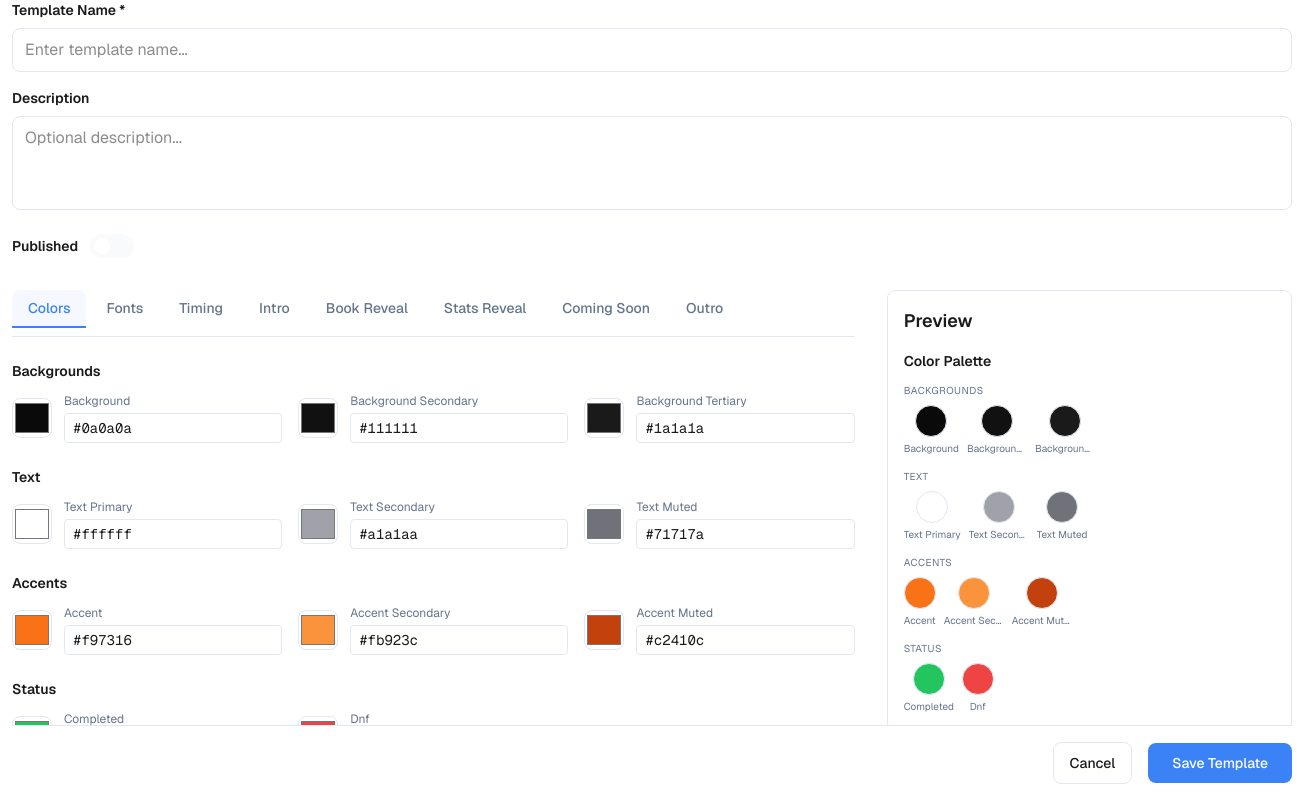
Test: Template Creator - Gap Fill Tests › changing a timing total in the editor updates the preview panel timing bar
# Switch to Timing tab
Click the button "Timing": (201, 309) [163,290,239,328]
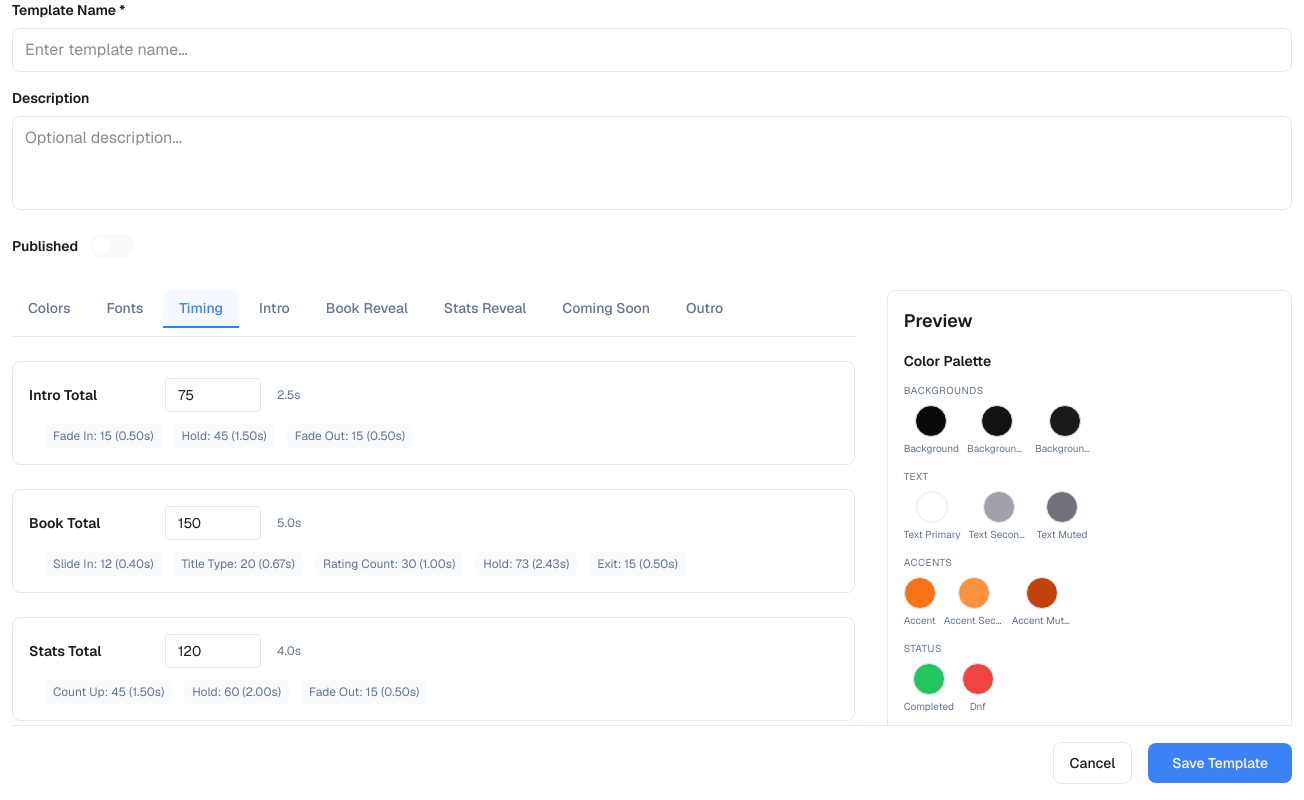
# Change the intro total from default (75) to 300
Replace the text in the number field with test id "timing-introTotal" with "300": (213, 395) [165,378,261,412]
(page scrolled)
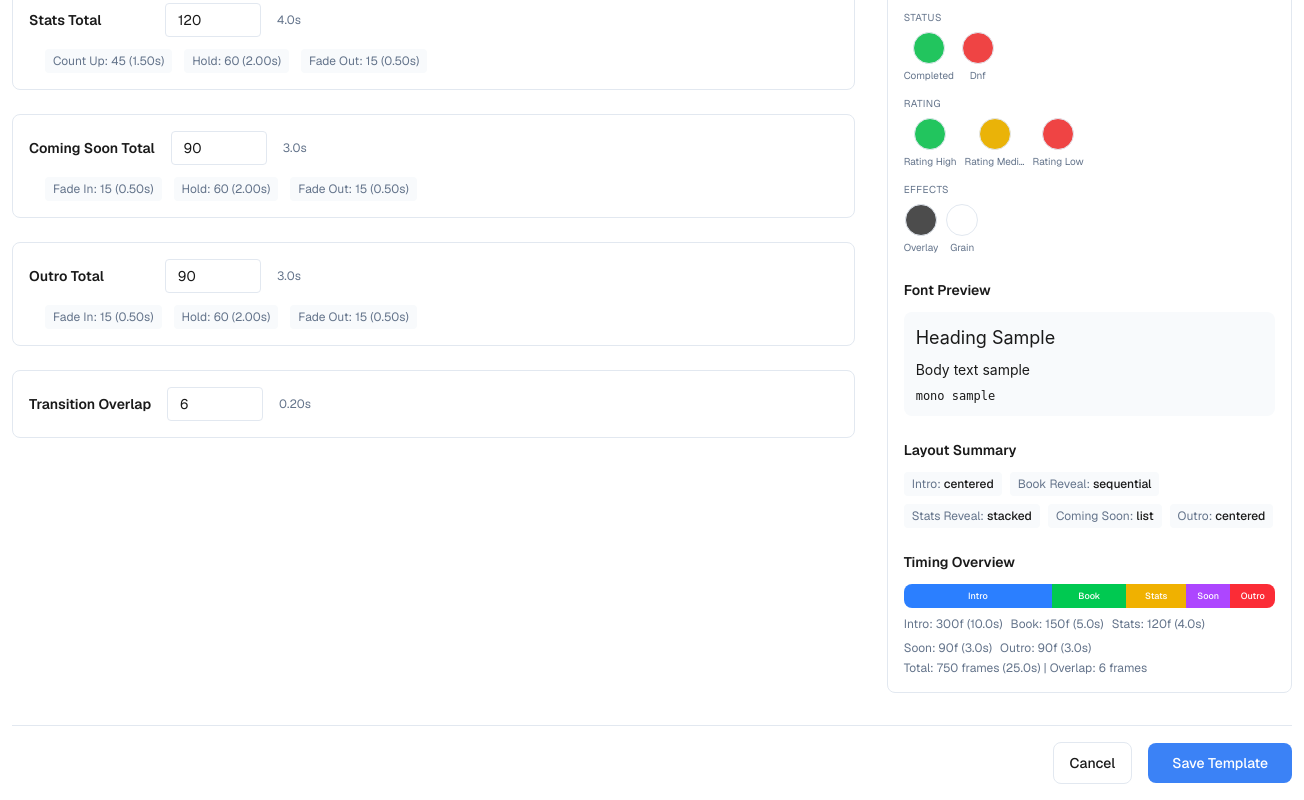
Check: the text with test id "preview-timing-label-intro" reads "Intro: 300f (10.0s)", box [904,616,1003,632]
